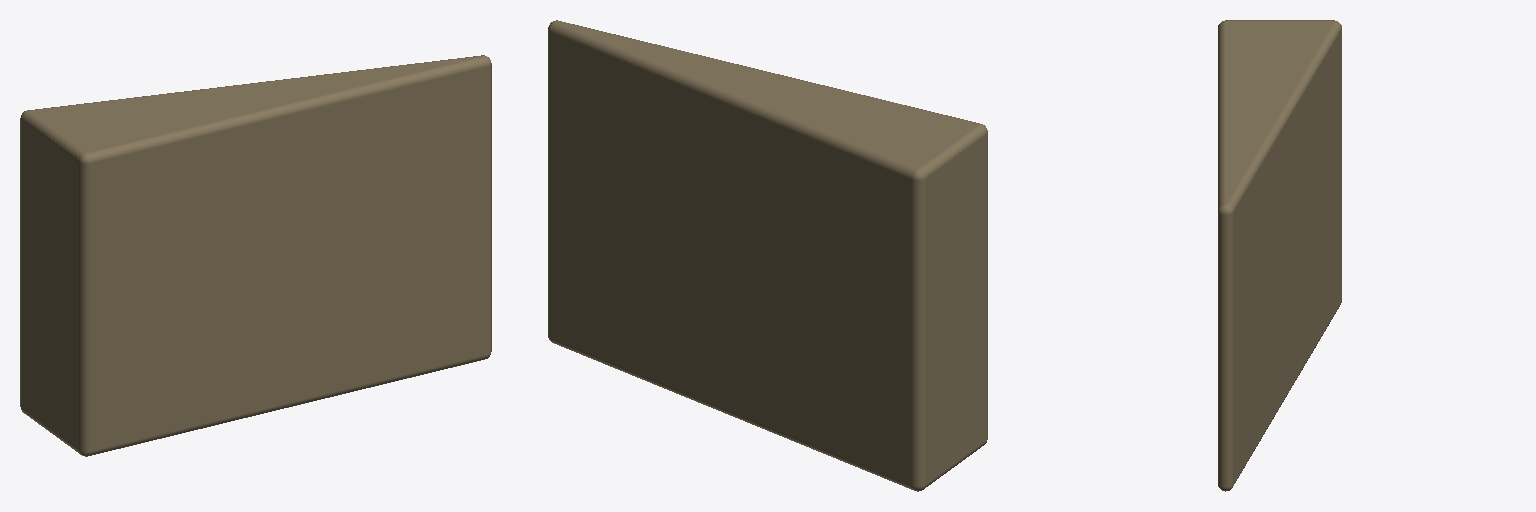
URDF robot description (wedge_long):
<?xml version="1.0"?>
<robot name="wedge_long">
  <link name="base_link">
    <visual>
      <origin xyz="0 0 0" rpy="0 0 0" />
      <geometry>
        <mesh filename="wedge_long.obj"/>      
      </geometry>
      <material name="tan">
        <color rgba="0.55 0.5 0.4 1"/>
      </material>
    </visual>
    <collision>
      <origin xyz="0 0 0" rpy="0 0 0" />
      <geometry>
        <mesh filename="wedge_long.obj"/>
      </geometry>
    </collision>
  </link>
</robot>

--- Facts derived from the render (not from the file) ---
Views: 3 orthographic renders of the robot side by side, from view 1: azimuth 30°, elevation 25°; view 2: azimuth 150°, elevation 25°; view 3: azimuth 270°, elevation 25°.
Model wedge_long with 1 links and 0 joints (none), rooted at base_link, posed every joint at zero.
Links seen in each view (by area): view 1: base_link; view 2: base_link; view 3: base_link.
Boxes of the visible links, <box> form: base_link: <box>20,55,491,456</box>; base_link: <box>548,20,987,491</box>; base_link: <box>1218,20,1341,491</box>.
Size in the robot's own frame: 45.15 by 12.48 by 31.75 metres.
Meshes: 1 distinct files referenced, 1 mesh visuals loaded (1 OBJ).
